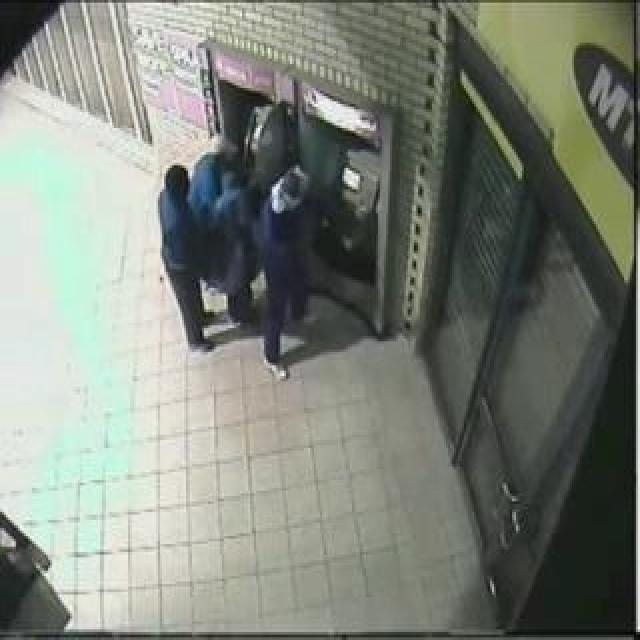thief: (110, 129, 327, 301)
